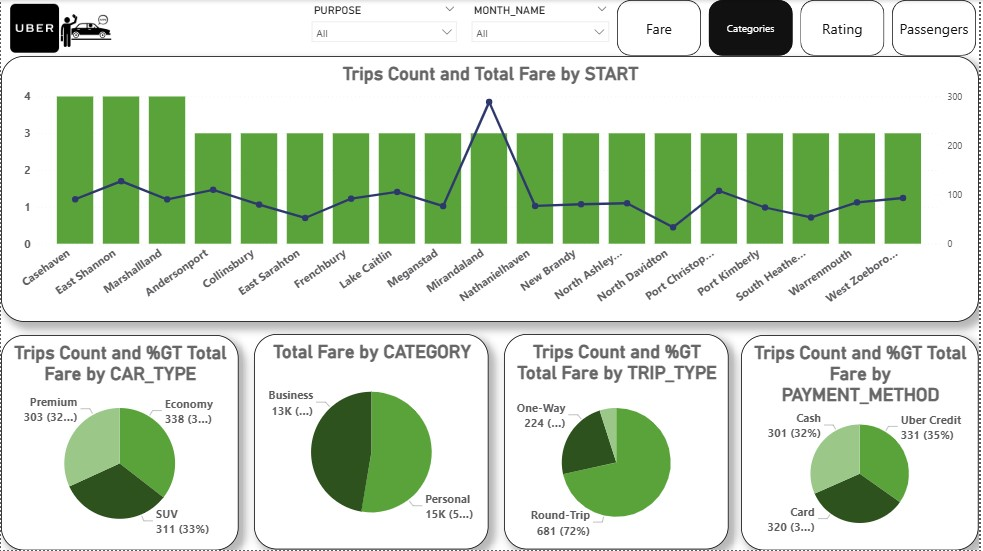

The page's visual inventory and layout, read from the dashboard file:
{"tool":"powerbi","page":{"name":"Categories","canvas":[1280,720],"ordinal":1},"visuals":[{"type":"lineClusteredColumnComboChart","fields":{"Category":["cleaned_uber_data1.START"],"Y2":["MyMesaures.Total Fare"],"Y":["MyMesaures.Trips Count"]},"box":[0,73.9,1280,347.7],"z":0},{"type":"pieChart","fields":{"Category":["cleaned_uber_data1.CAR_TYPE"],"Y":["MyMesaures.Trips Count"]},"box":[0,438.4,310.8,282.2],"z":1000},{"type":"pieChart","fields":{"Category":["cleaned_uber_data1.TRIP_TYPE"],"Y":["MyMesaures.Trips Count"]},"box":[658.5,437.8,294,282.2],"z":2000},{"type":"pieChart","fields":{"Category":["cleaned_uber_data1.PAYMENT_METHOD"],"Y":["MyMesaures.Trips Count"]},"box":[969.2,438.4,310.8,282.2],"z":3000},{"type":"pageNavigator","box":[806.3,0,473.7,73.9],"z":4000},{"type":"pieChart","fields":{"Category":["cleaned_uber_data1.CATEGORY"],"Y":["MyMesaures.Total Fare"]},"box":[330.9,437.8,307.4,282.2],"z":5000},{"type":"image","box":[0,0,87.3,73.9],"z":6000},{"type":"image","box":[73.9,0,75.6,80.6],"z":7000},{"type":"slicer","fields":{"Values":["cleaned_uber_data1.MONTH_NAME"]},"box":[606.4,0,199.9,63.8],"z":8000},{"type":"slicer","fields":{"Values":["cleaned_uber_data1.PURPOSE"]},"box":[396.4,0,210,63.8],"z":9000}]}

Visuals, with their boxes in screenshot pixels (x1, y1, x2, y2), scaled from the page's 1280x720 canvas onto the 983x551 screenshot:
lineClusteredColumnComboChart - cleaned_uber_data1.START x MyMesaures.Total Fare: 0 57 982 323
pieChart - cleaned_uber_data1.CAR_TYPE x MyMesaures.Trips Count: 0 335 239 550
pieChart - cleaned_uber_data1.TRIP_TYPE x MyMesaures.Trips Count: 506 335 731 550
pieChart - cleaned_uber_data1.PAYMENT_METHOD x MyMesaures.Trips Count: 744 335 982 550
pageNavigator: 619 0 982 57
pieChart - cleaned_uber_data1.CATEGORY x MyMesaures.Total Fare: 254 335 490 550
image: 0 0 67 57
image: 57 0 115 62
slicer - cleaned_uber_data1.MONTH_NAME: 466 0 619 49
slicer - cleaned_uber_data1.PURPOSE: 304 0 466 49
